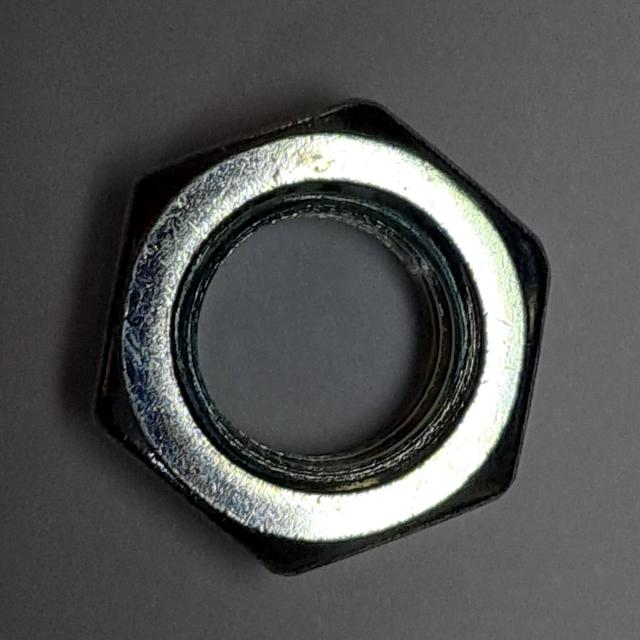Excellent: (70, 85, 567, 590)
